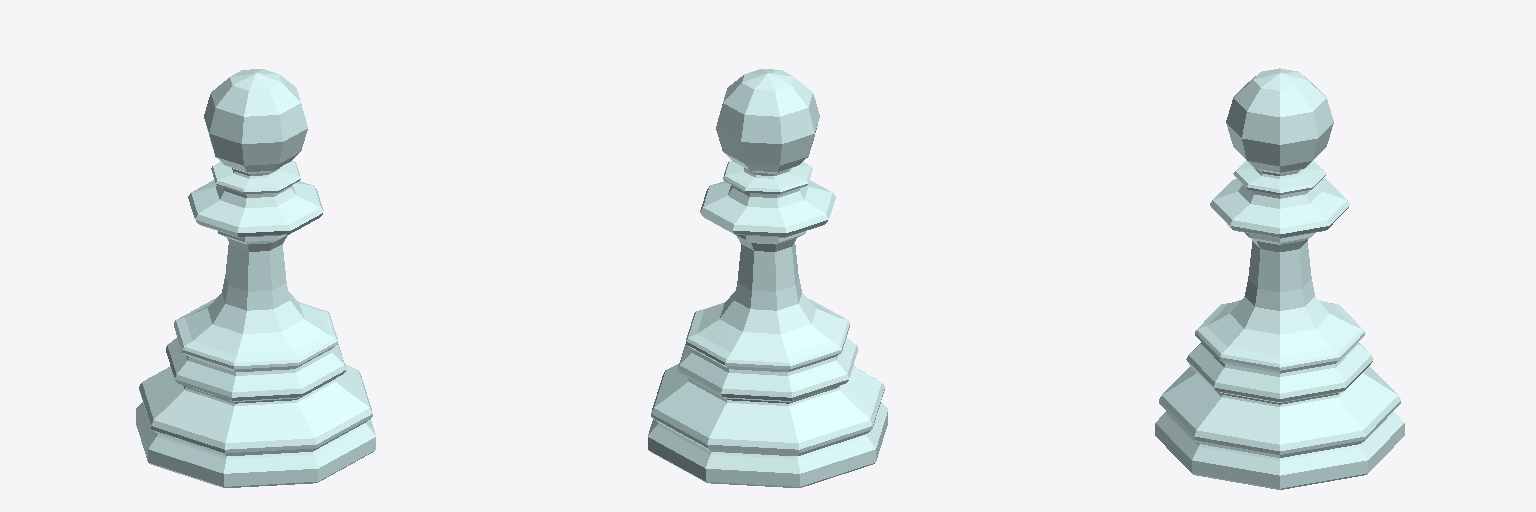
File: ChessPiecePawnWhite.obj
3 views of the same model, side by side, from view 1: azimuth 30°, elevation 25°; view 2: azimuth 150°, elevation 25°; view 3: azimuth 270°, elevation 25° (orthographic).
Parts seen in each view (by area): view 1: Pawn.White_Cylinder.001; view 2: Pawn.White_Cylinder.001; view 3: Pawn.White_Cylinder.001.
Part boxes in pixels (left/top/right/bottom): Pawn.White_Cylinder.001: left=136, top=69, right=375, bottom=487; Pawn.White_Cylinder.001: left=648, top=69, right=887, bottom=487; Pawn.White_Cylinder.001: left=1155, top=68, right=1404, bottom=489.
Bounding box in the file's own units: 0.03 × 0.0485 × 0.03.